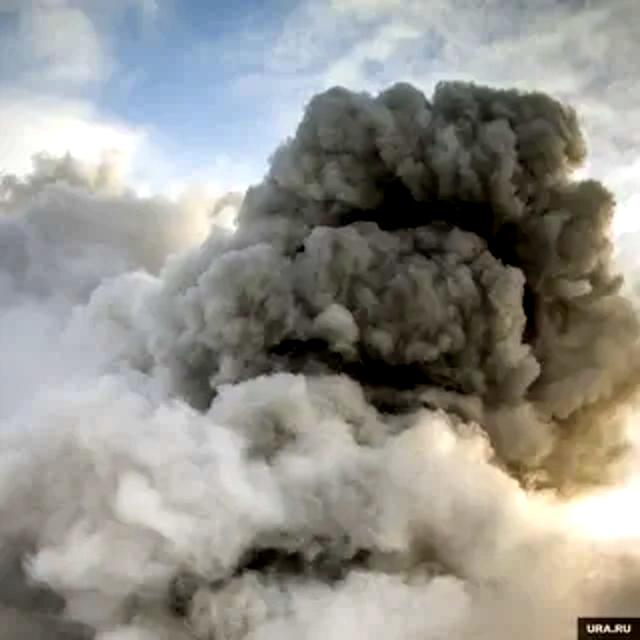no_helmet: (2, 80, 640, 640)
